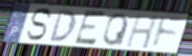D: (48, 9, 77, 43)
E: (73, 9, 109, 47)
F: (151, 15, 185, 50)
H: (124, 12, 160, 50)
Q: (102, 13, 131, 47)
S: (25, 7, 54, 42)
